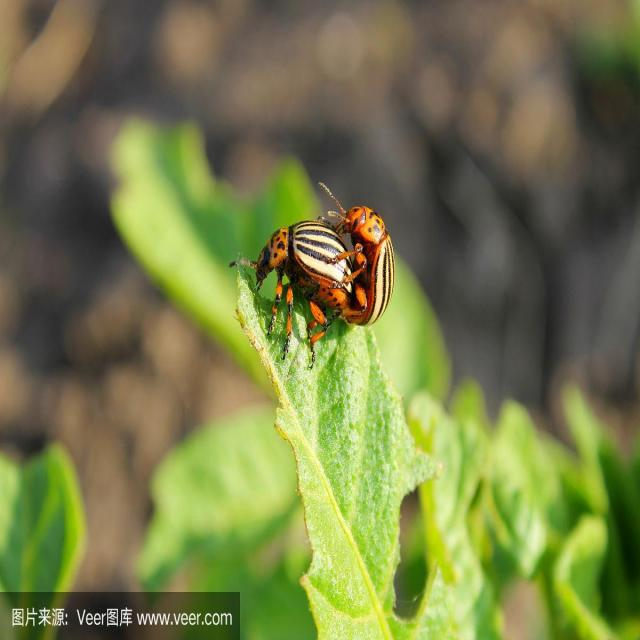ShuCaiHuaBanChong-Grown-: (251, 213, 361, 329), (343, 188, 398, 336)
